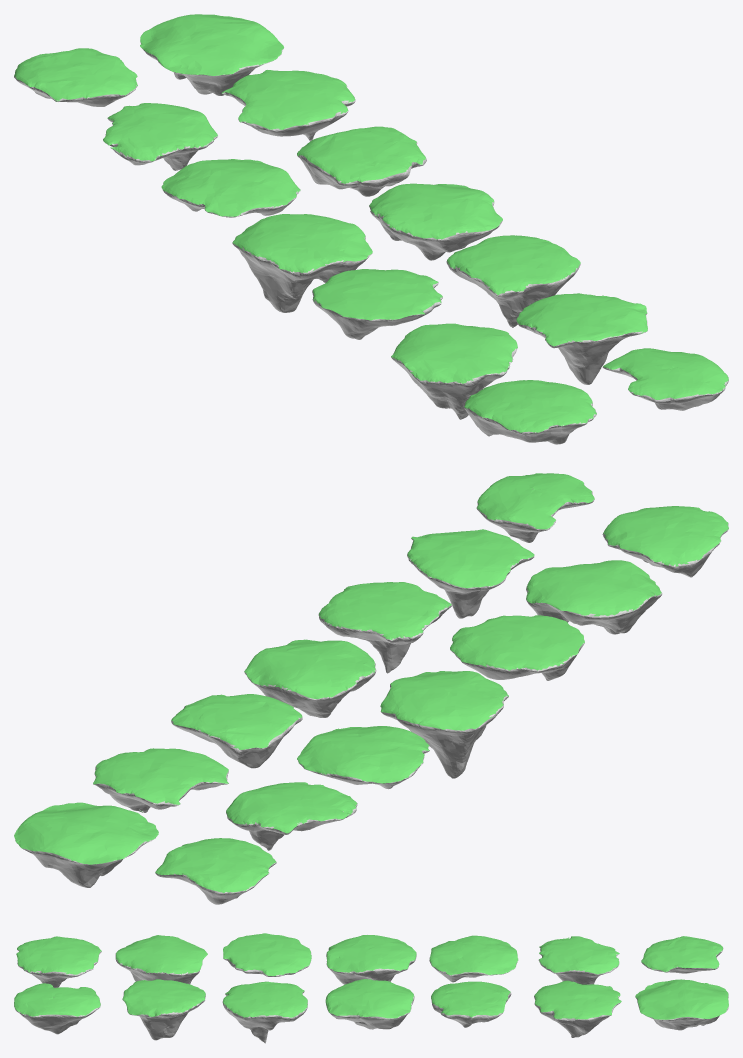
The model's file is Large Islands.fbx.
The picture shows the model from 3 angles, top to bottom: view 1: azimuth 30°, elevation 25°; view 2: azimuth 150°, elevation 25°; view 3: azimuth 270°, elevation 25°; orthographic projection. The views are drawn at different scales.
Parts seen in each view (by area): view 1: Island 06, Island 07, Island 04, Island 13, Island 12, Island 11, Island 08, Island 03, Island 05, Island 09, Island 02, Island 01 (+2 smaller); view 2: Island 06, Island 07, Island 04, Island 13, Island 05, Island 12, Island 11, Island 02, Island 03, Island 08, Island 09, Island 01 (+2 smaller); view 3: Island 07, Island 13, Island 06, Island 12, Island 11, Island 08, Island 04, Island 02, Island 10, Island 03, Island 05, Island 01 (+2 smaller).
Boxes of the visible parts, box(x1,y1,x2,y2) form: Island 06: box(232, 214, 372, 312); Island 07: box(140, 14, 283, 95); Island 04: box(391, 323, 517, 419); Island 13: box(369, 183, 502, 260); Island 12: box(446, 235, 580, 327); Island 11: box(516, 293, 647, 384); Island 08: box(221, 70, 355, 141); Island 03: box(464, 380, 596, 444); Island 05: box(312, 269, 442, 339); Island 09: box(297, 126, 426, 196); Island 02: box(161, 159, 300, 217); Island 01: box(103, 103, 217, 170); Island 06: box(380, 671, 508, 778); Island 07: box(14, 802, 158, 887); Island 04: box(526, 560, 662, 634); Island 13: box(244, 639, 376, 717); Island 05: box(450, 615, 584, 680); Island 12: box(318, 582, 452, 673); Island 11: box(407, 529, 534, 618); Island 02: box(297, 726, 429, 789); Island 03: box(602, 506, 728, 577); Island 08: box(93, 748, 228, 812); Island 09: box(171, 694, 302, 768); Island 01: box(226, 782, 357, 850); Island 07: box(635, 979, 728, 1030); Island 13: box(325, 979, 414, 1029); Island 06: box(326, 935, 416, 984); Island 12: box(222, 981, 307, 1043); Island 11: box(122, 979, 205, 1040); Island 08: box(534, 980, 621, 1037); Island 04: box(115, 935, 207, 984); Island 02: box(429, 935, 518, 982); Island 10: box(14, 983, 100, 1034); Island 03: box(16, 936, 101, 987); Island 05: box(223, 933, 311, 976); Island 01: box(538, 936, 619, 984).
Bounding box in the file's own units: 382 × 113 × 1369.
